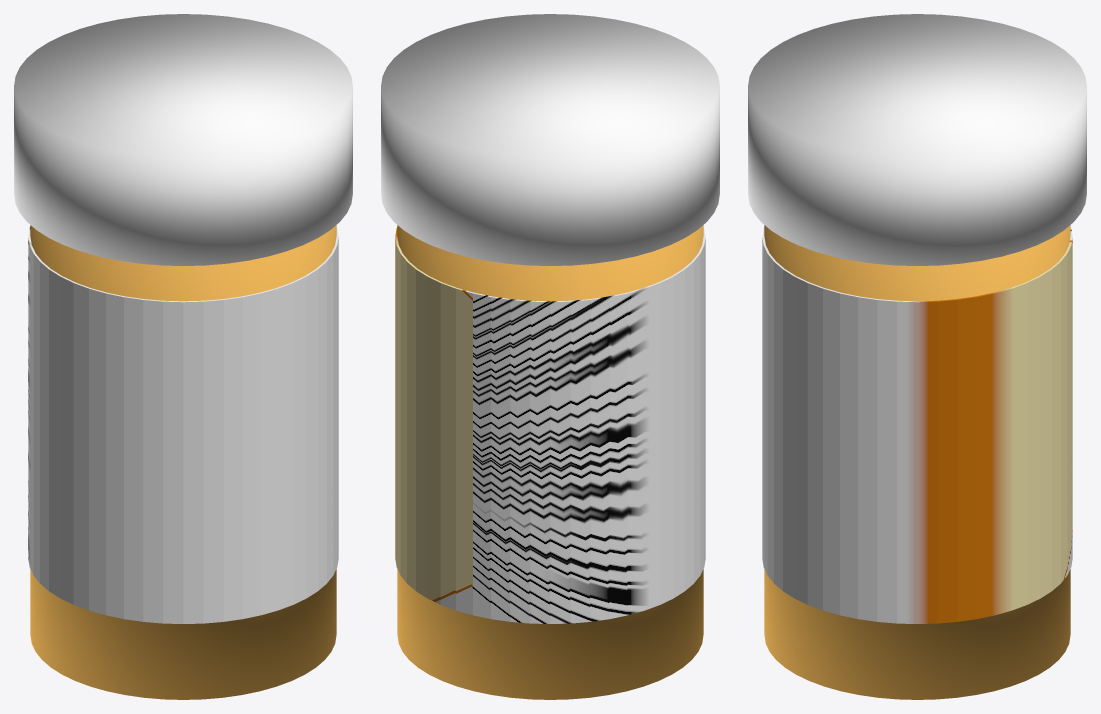
File: pill_bottle.glb
The picture shows the model from 3 angles, left to right: view 1: azimuth 30°, elevation 25°; view 2: azimuth 150°, elevation 25°; view 3: azimuth 270°, elevation 25°; orthographic projection.
Visible parts, largest first — view 1: PillBottle; view 2: PillBottle; view 3: PillBottle.
Part boxes in pixels (bbox=[...]): PillBottle: bbox=[14, 14, 352, 699]; PillBottle: bbox=[381, 14, 719, 699]; PillBottle: bbox=[748, 14, 1086, 699].
Size of the model in its own units: 0.062 by 0.111 by 0.062.
Materials: 3 (1 with a texture image).
